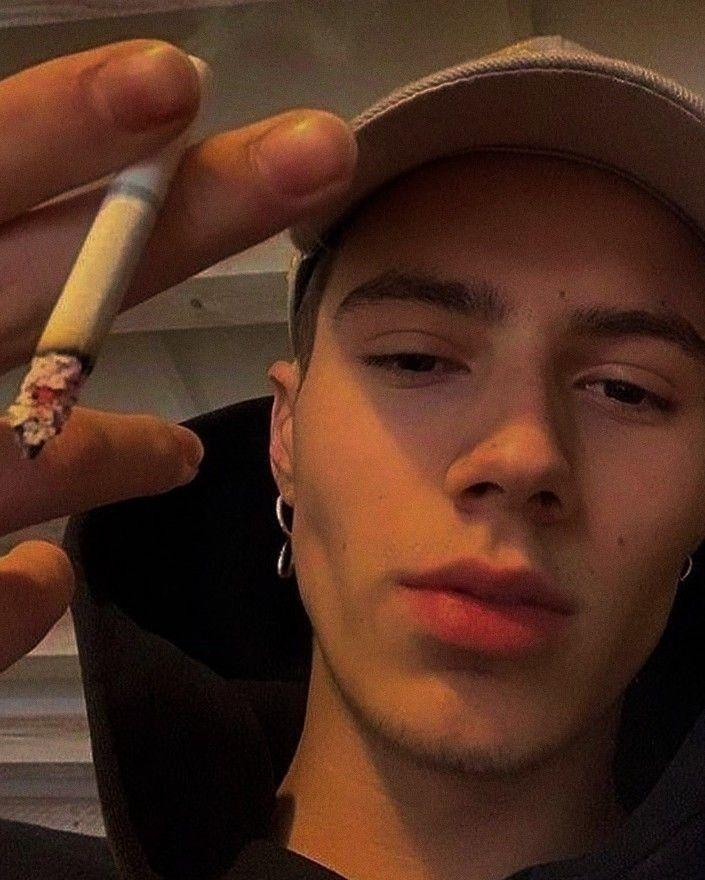cigarette: (4, 52, 217, 461)
